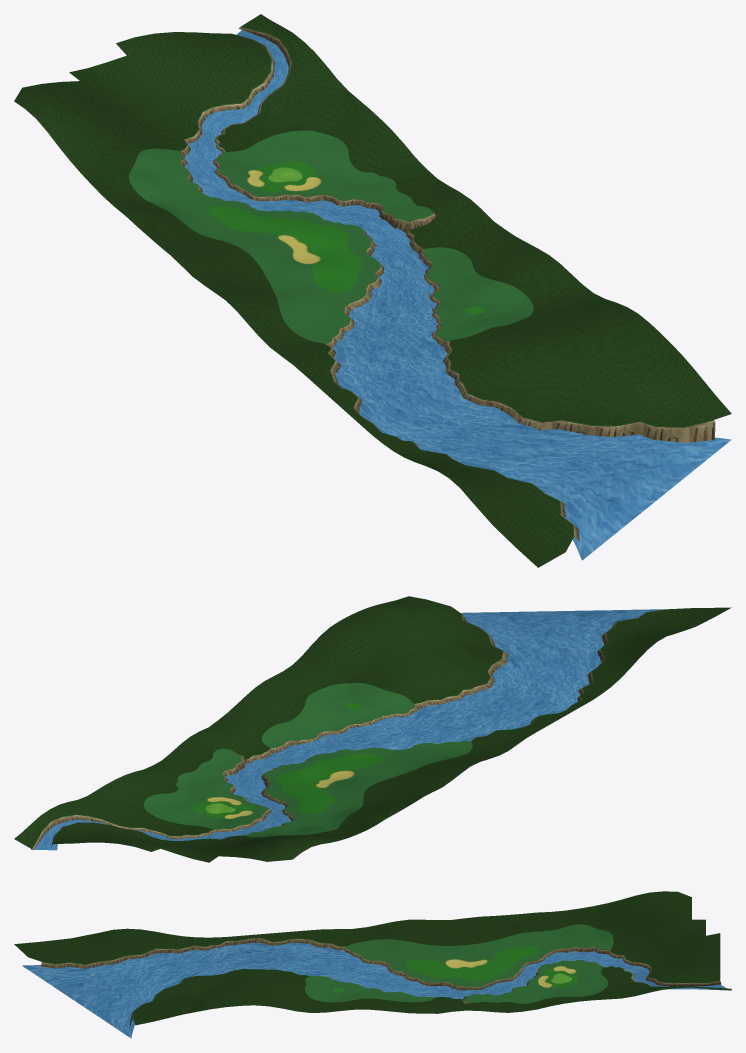
The model's file is glf_map_fc16__glf_map_fc16.glb.
3 renders of one model, top to bottom at view 1: azimuth 30°, elevation 25°; view 2: azimuth 150°, elevation 25°; view 3: azimuth 270°, elevation 25°, orthographic. The views are drawn at different scales.
Parts seen in each view (by area): view 1: polygon7, polygon3, polygon8, polygon5, polygon2, polygon0; view 2: polygon7, polygon3, polygon8, polygon5, polygon2, polygon0; view 3: polygon7, polygon3, polygon8, polygon5, polygon2, polygon0.
Part boxes in pixels (left/top/right/bottom): polygon7: left=14, top=14, right=731, bottom=567; polygon3: left=184, top=30, right=731, bottom=560; polygon8: left=129, top=130, right=533, bottom=343; polygon5: left=180, top=27, right=715, bottom=541; polygon2: left=208, top=161, right=485, bottom=314; polygon0: left=247, top=170, right=321, bottom=264; polygon7: left=14, top=596, right=731, bottom=862; polygon3: left=31, top=609, right=669, bottom=850; polygon8: left=144, top=683, right=472, bottom=837; polygon5: left=32, top=606, right=646, bottom=850; polygon2: left=192, top=703, right=383, bottom=818; polygon0: left=207, top=770, right=354, bottom=818; polygon7: left=14, top=891, right=731, bottom=1025; polygon3: left=22, top=942, right=729, bottom=1038; polygon8: left=305, top=924, right=613, bottom=1003; polygon5: left=41, top=938, right=721, bottom=1028; polygon2: left=333, top=946, right=578, bottom=992; polygon0: left=445, top=959, right=576, bottom=987.
Size of the model in its own units: 3000 by 941 by 10167.
Materials: 8 (8 with a texture image).
